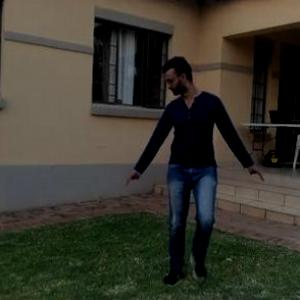land: (128, 64, 257, 285)
